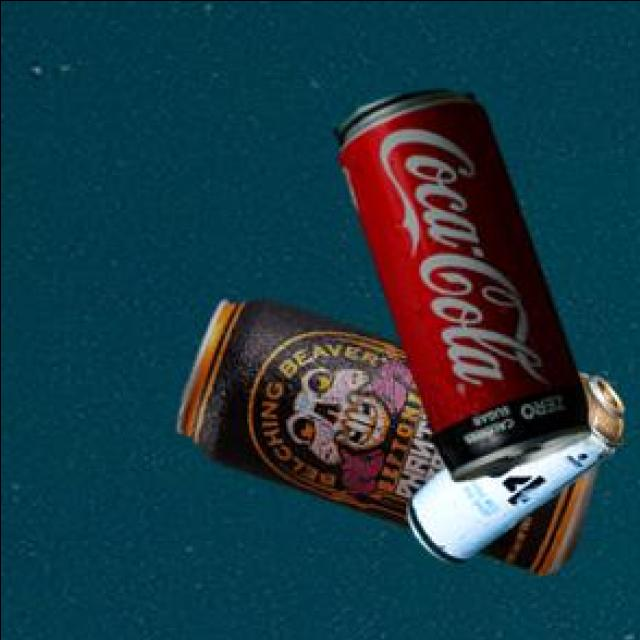logam: (180, 301, 599, 578), (336, 93, 593, 482), (408, 376, 626, 565)
